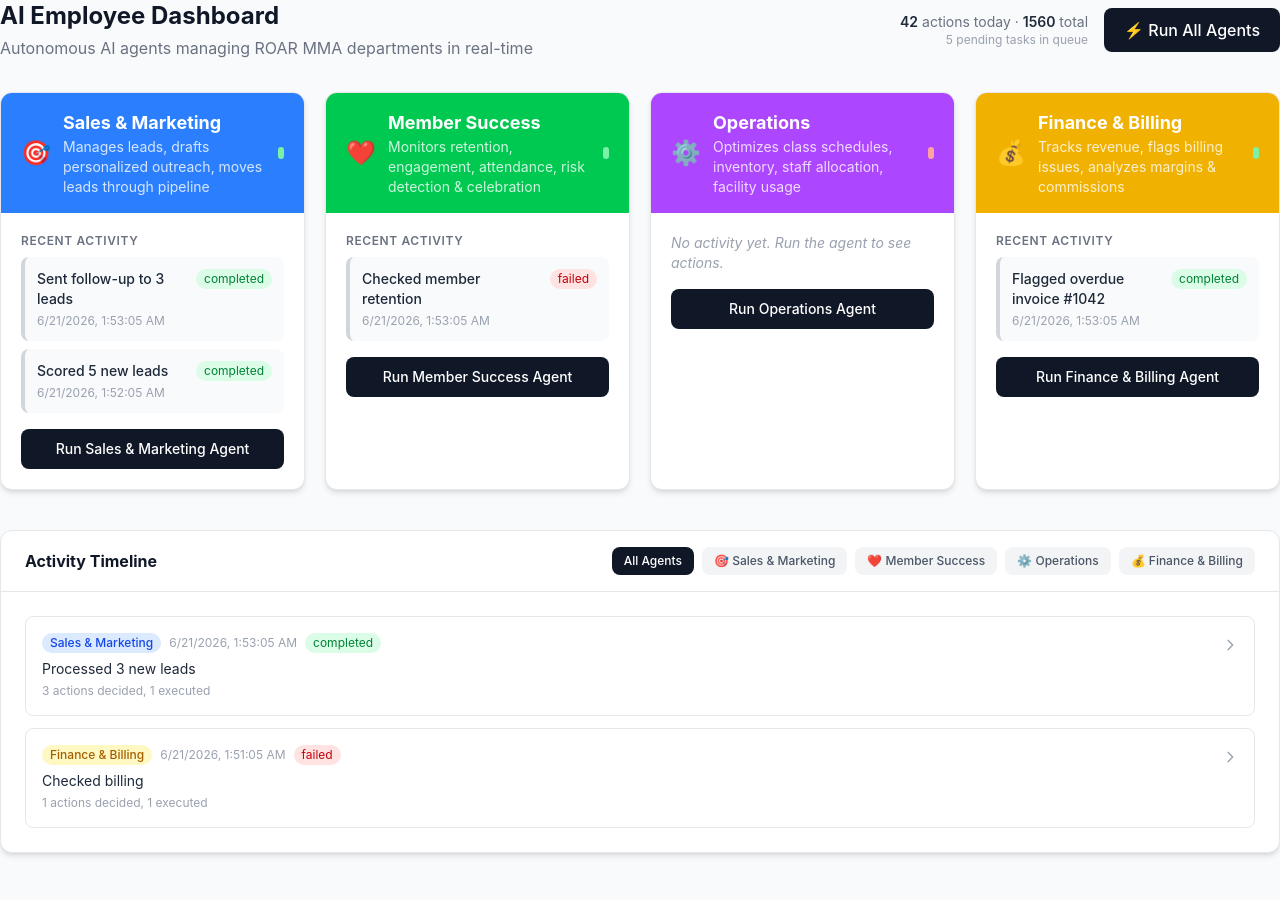
Test: AgentTracking › shows error details in drawer for failed actions
Click the text "Checked billing": (93, 780) [42,772,144,789]
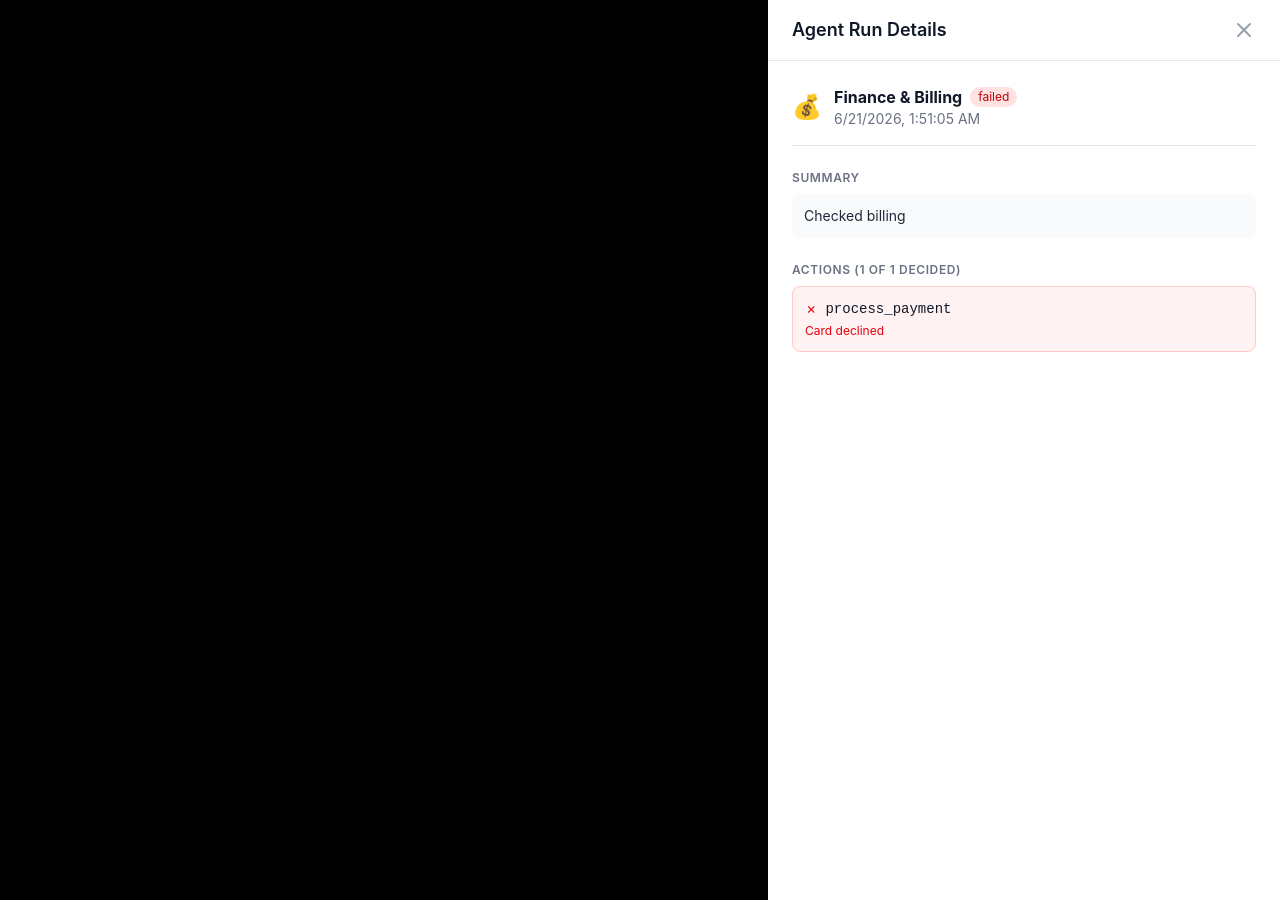
Check: the text "process_payment" is shown, box [825,299,951,319]
Check: the text "Card declined" is shown, box [805,323,884,338]
